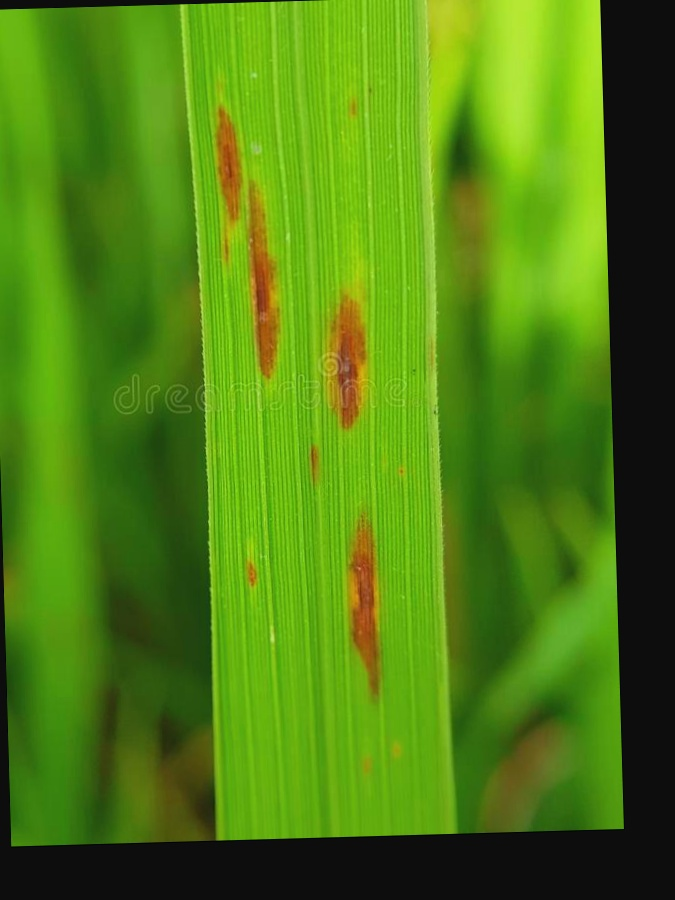Bacterial_Leaf_Blight: (342, 494, 403, 716), (315, 273, 386, 440), (242, 174, 287, 389), (212, 95, 258, 239), (235, 530, 273, 603)
